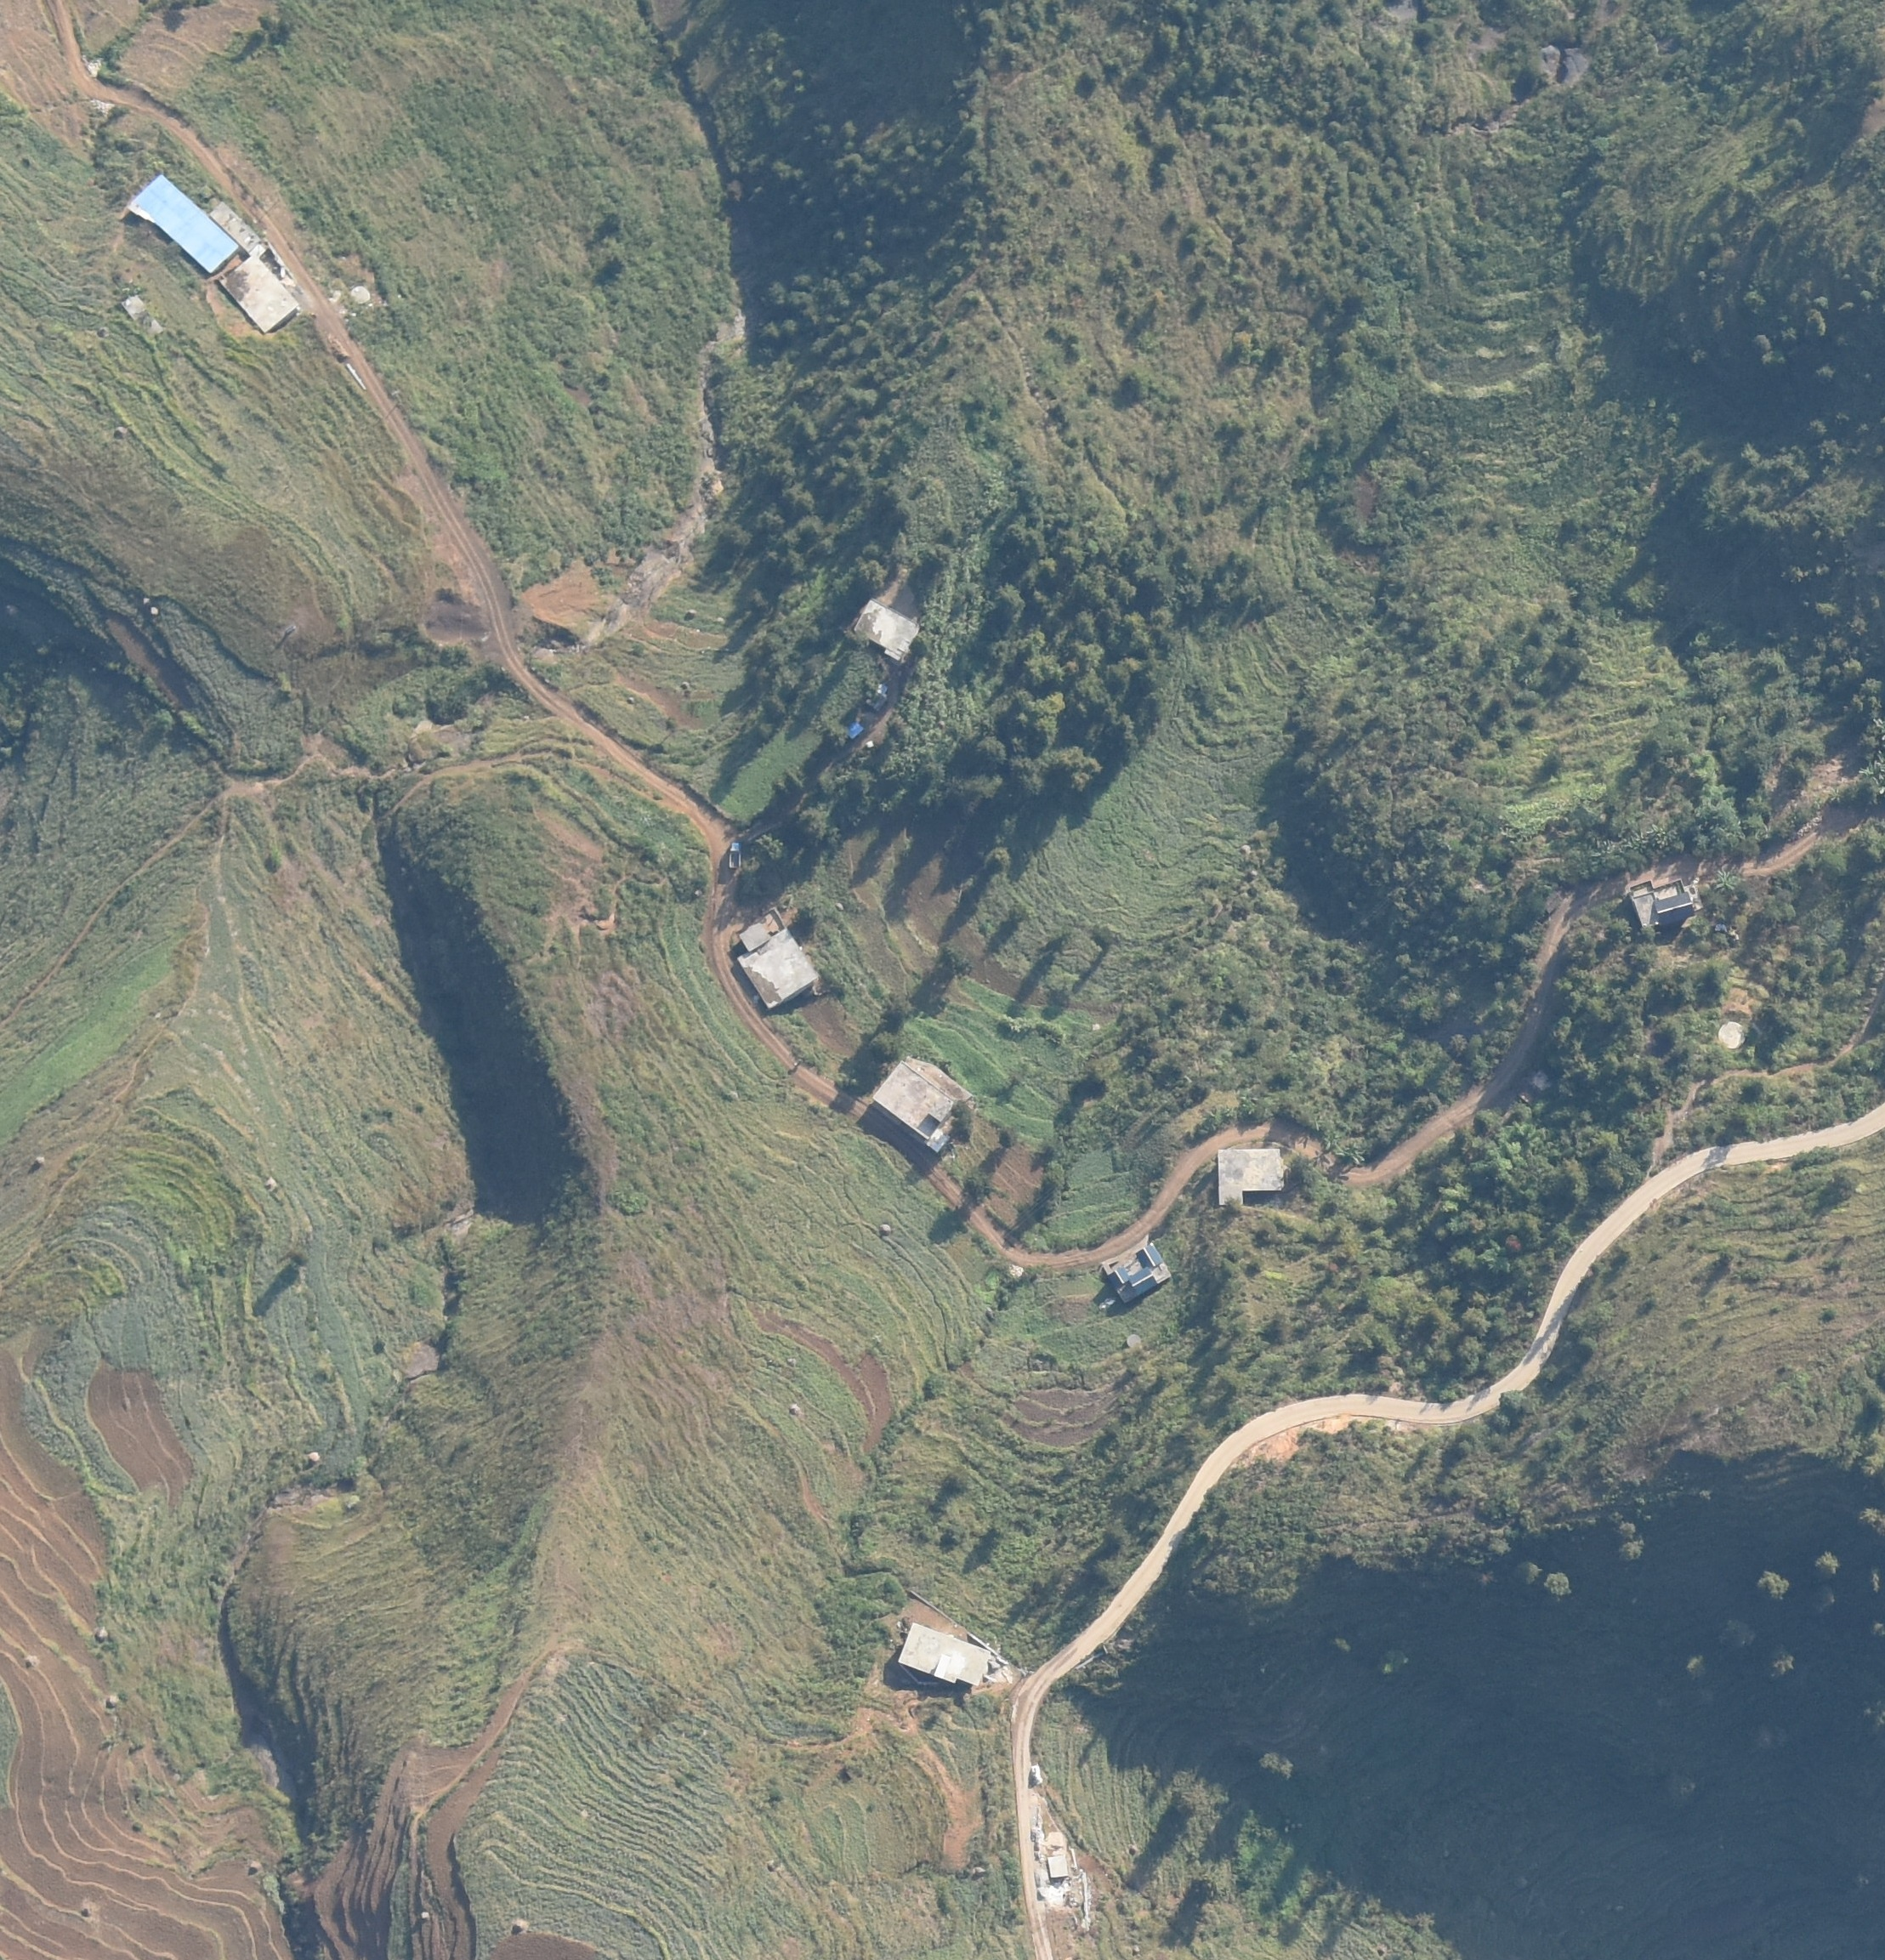building: (733, 922, 817, 1011), (875, 1060, 959, 1150), (896, 1624, 989, 1689), (222, 255, 296, 332), (1216, 1148, 1286, 1209), (856, 600, 922, 663), (1101, 1246, 1171, 1300), (1628, 882, 1698, 931), (208, 199, 263, 254), (119, 294, 166, 343), (1047, 1857, 1069, 1881)
prefabricated-house: (135, 178, 233, 271), (845, 723, 865, 740)
vehicle: (726, 842, 746, 870)
well: (1717, 1020, 1747, 1050), (348, 282, 369, 306), (1125, 1334, 1143, 1349)
